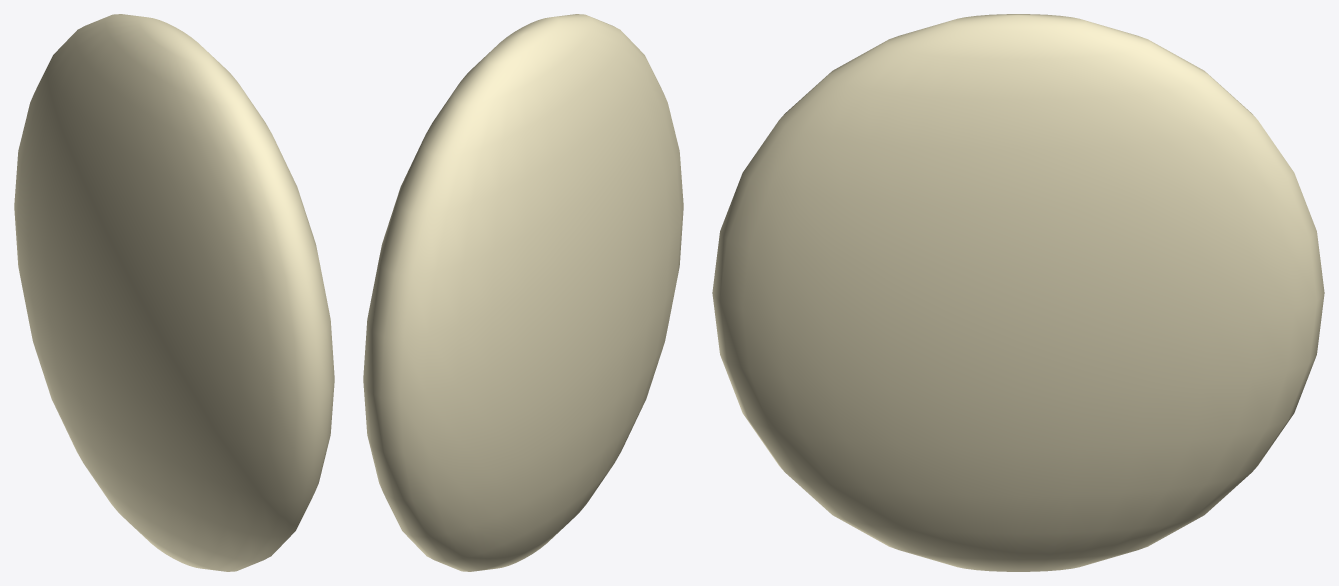
Rendered from headlight_classic_hd.glb.
3 views of the same model, side by side, from view 1: azimuth 30°, elevation 25°; view 2: azimuth 150°, elevation 25°; view 3: azimuth 270°, elevation 25° (orthographic). The views are drawn at different scales.
Parts seen in each view (by area): view 1: S51_HD_headlight_classic; view 2: S51_HD_headlight_classic; view 3: S51_HD_headlight_classic.
Boxes of the visible parts, bbox=[...] form: S51_HD_headlight_classic: bbox=[14, 14, 334, 571]; S51_HD_headlight_classic: bbox=[363, 14, 683, 571]; S51_HD_headlight_classic: bbox=[712, 14, 1324, 571].
Size of the model in its own units: 0.13 by 0.44 by 0.44.
